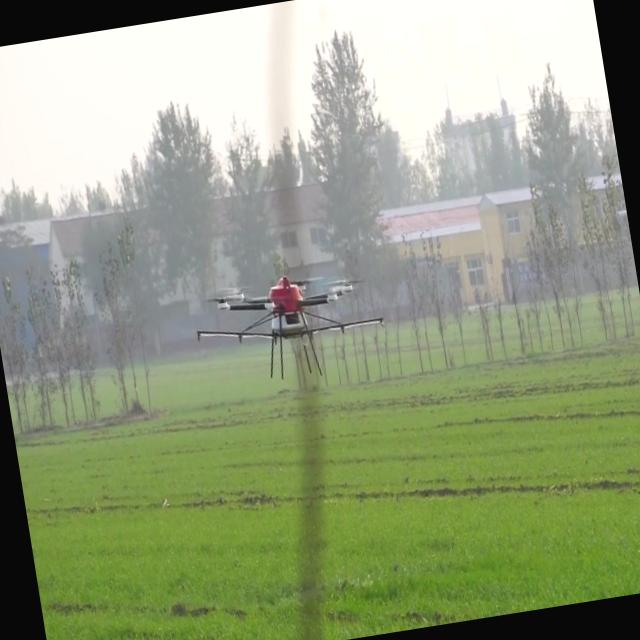drone: (190, 258, 392, 396)
